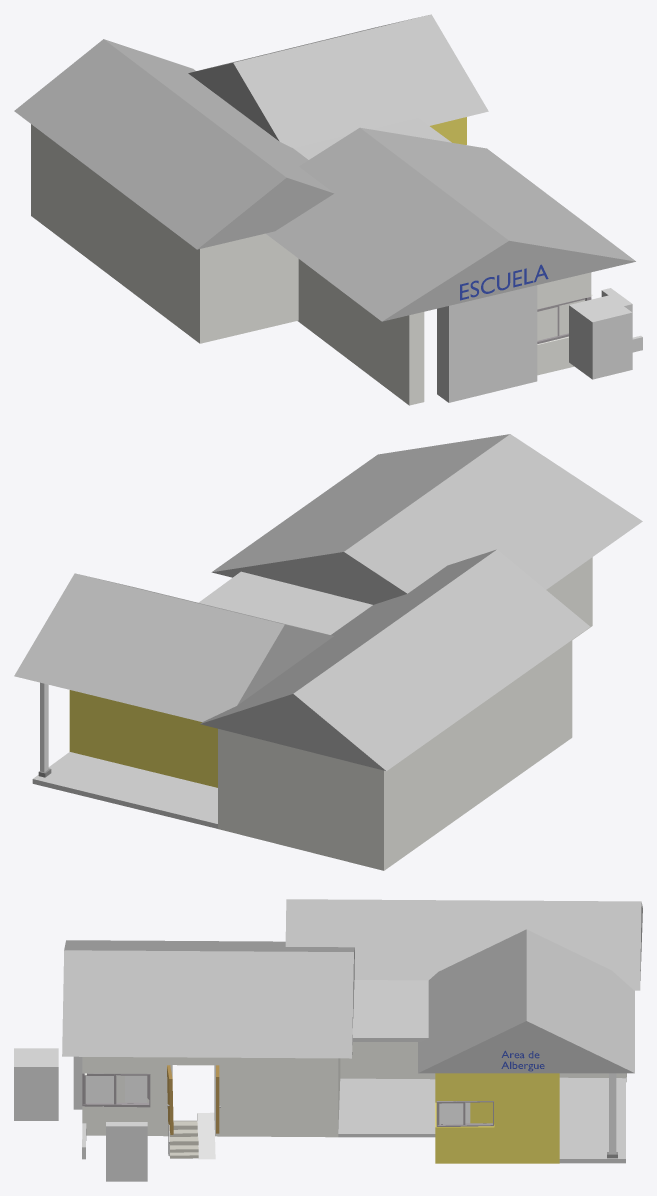
File: EscuelaFinal.glb
The picture shows the model from 3 angles, top to bottom: view 1: azimuth 30°, elevation 25°; view 2: azimuth 150°, elevation 25°; view 3: azimuth 270°, elevation 25°; orthographic projection. The views are drawn at different scales.
Parts seen in each view (by area): view 1: Techo_Modulo_Frente, Techo_Modulo_Trasero, Modulo_Trasero, Techo_Albergue, Modulo_Frente.001, Cubo.001, HuecoPuerta, Alero_Losa, Letrero_ESCUELA, Albergue; view 2: Techo_Modulo_Frente, Techo_Modulo_Trasero, Modulo_Trasero, Techo_Albergue, Albergue, Alero_Losa_Albergue, Alero_Losa, Modulo_Frente.001, Col_0.002; view 3: Techo_Modulo_Frente, Techo_Albergue, Techo_Modulo_Trasero, Modulo_Frente.001, Albergue, Alero_Losa.002, Alero_Losa_Albergue, Alero_Losa, HuecoPuerta, Modulo_Trasero, Cubo, Vidro.003 (+4 smaller).
Boxes of the visible parts, <box> form: Techo_Modulo_Frente: <box>266,127,635,321</box>; Techo_Modulo_Trasero: <box>14,39,333,249</box>; Modulo_Trasero: <box>31,124,298,343</box>; Techo_Albergue: <box>188,14,488,148</box>; Modulo_Frente.001: <box>298,259,592,405</box>; Cubo.001: <box>437,285,537,402</box>; HuecoPuerta: <box>569,295,632,379</box>; Alero_Losa: <box>293,118,451,159</box>; Letrero_ESCUELA: <box>460,264,548,300</box>; Albergue: <box>430,117,466,144</box>; Techo_Modulo_Frente: <box>211,434,642,604</box>; Techo_Modulo_Trasero: <box>200,549,590,770</box>; Modulo_Trasero: <box>218,640,572,870</box>; Techo_Albergue: <box>14,573,333,721</box>; Albergue: <box>69,690,217,787</box>; Alero_Losa_Albergue: <box>32,752,217,828</box>; Alero_Losa: <box>198,571,372,634</box>; Modulo_Frente.001: <box>546,557,592,639</box>; Col_0.002: <box>40,682,48,772</box>; Techo_Modulo_Frente: <box>62,940,354,1058</box>; Techo_Albergue: <box>418,929,634,1073</box>; Techo_Modulo_Trasero: <box>285,899,642,990</box>; Modulo_Frente.001: <box>82,1057,340,1137</box>; Albergue: <box>435,1073,559,1163</box>; Alero_Losa.002: <box>338,1078,435,1137</box>; Alero_Losa_Albergue: <box>559,1077,625,1163</box>; Alero_Losa: <box>352,980,428,1041</box>; HuecoPuerta: <box>14,1048,58,1120</box>; Modulo_Trasero: <box>340,1042,626,1082</box>; Cubo: <box>106,1122,147,1181</box>; Vidro.003: <box>82,1073,150,1107</box>.
Bounding box in the file's own units: 15.06 × 7.18 × 24.01.
